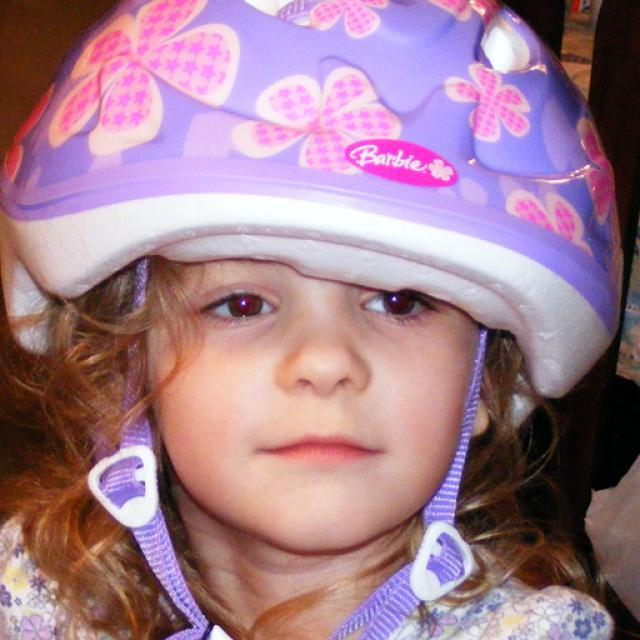neutral: (148, 255, 476, 558)
